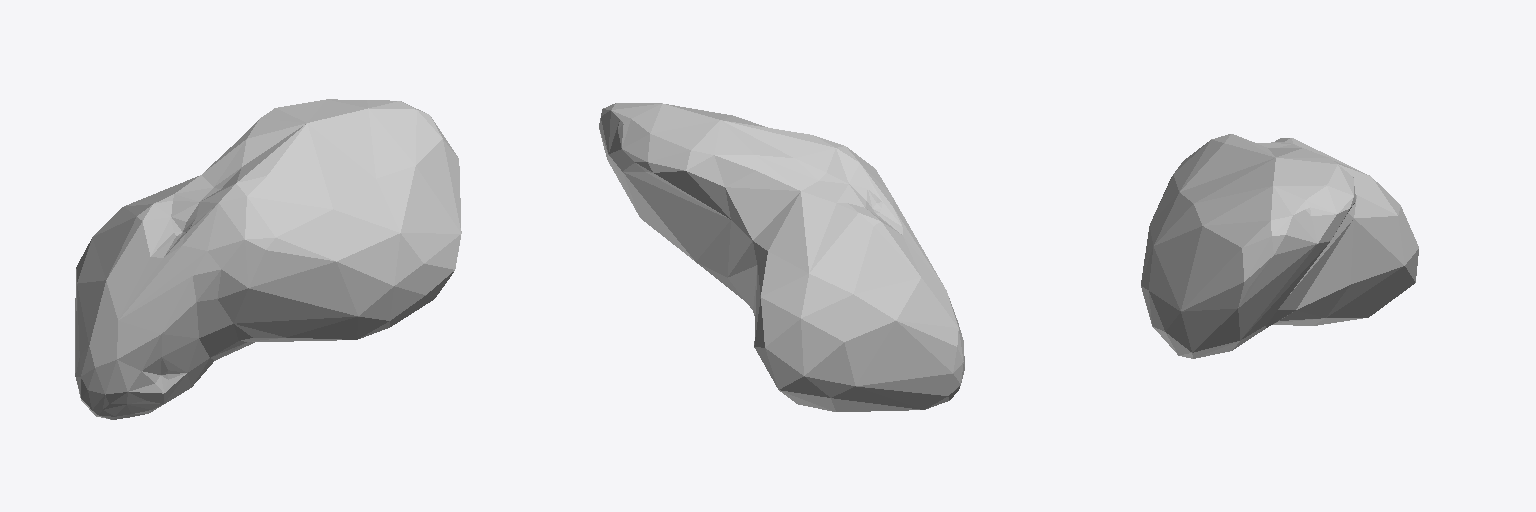
Rendered from right scaphoid.obj.
3 views of the same model, side by side, from view 1: azimuth 30°, elevation 25°; view 2: azimuth 150°, elevation 25°; view 3: azimuth 270°, elevation 25° (orthographic).
Visible parts, largest first — view 1: grp1; view 2: grp1; view 3: grp1.
Part boxes in pixels (bbox=[...]): grp1: bbox=[75, 99, 461, 419]; grp1: bbox=[599, 103, 964, 411]; grp1: bbox=[1141, 134, 1418, 358].
Bounding box in the file's own units: 23.73 × 15.09 × 15.44.